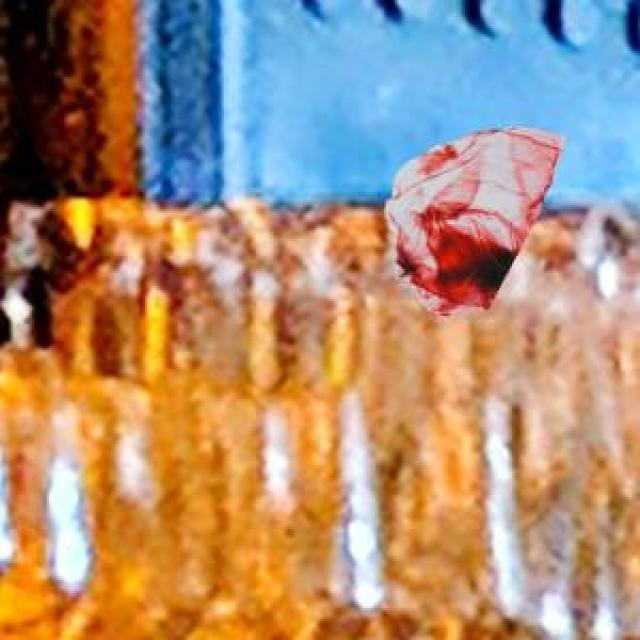waste: (386, 129, 561, 313)
